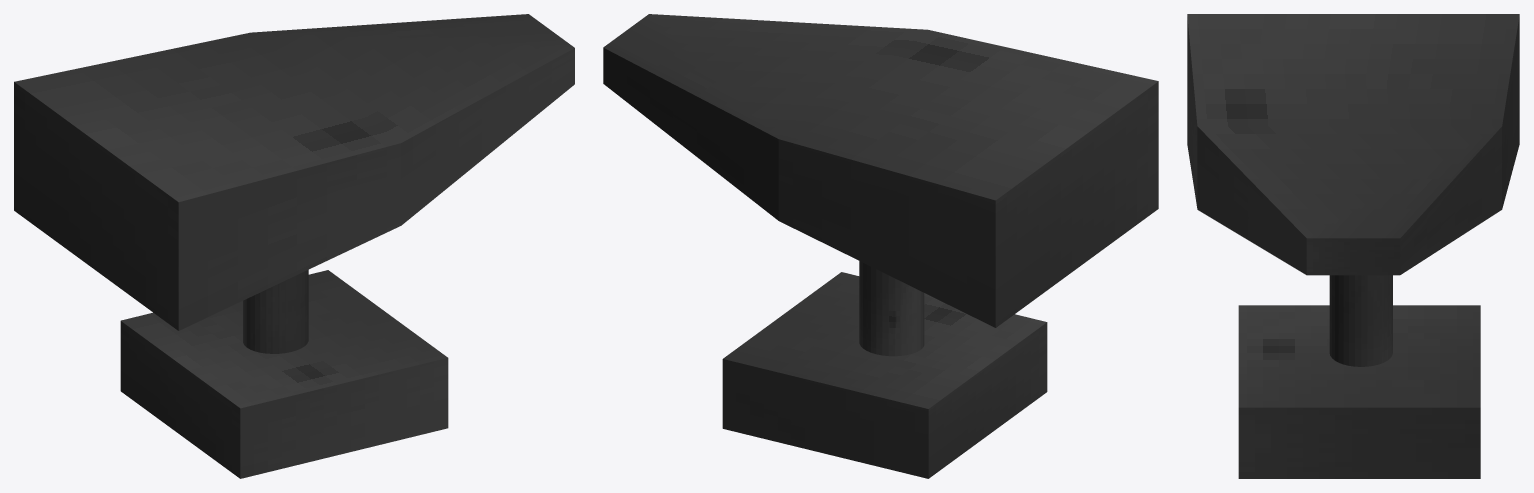
The model's file is ObjectAnvil.dae.
3 views of the same model, side by side, from view 1: azimuth 30°, elevation 25°; view 2: azimuth 150°, elevation 25°; view 3: azimuth 270°, elevation 25° (orthographic).
Parts seen in each view (by area): view 1: Cube.001, Cube, Cylinder; view 2: Cube.001, Cube, Cylinder; view 3: Cube.001, Cube, Cylinder.
Boxes of the visible parts, x1=… form: Cube.001: x1=14, y1=14, x2=574, y2=330; Cube: x1=120, y1=270, x2=448, y2=478; Cylinder: x1=243, y1=270, x2=308, y2=353; Cube.001: x1=603, y1=14, x2=1158, y2=327; Cube: x1=722, y1=272, x2=1047, y2=478; Cylinder: x1=859, y1=261, x2=924, y2=356; Cube.001: x1=1187, y1=14, x2=1519, y2=275; Cube: x1=1238, y1=305, x2=1480, y2=478; Cylinder: x1=1329, y1=275, x2=1392, y2=366.
Size of the model in its own units: 1.95 by 1.22 by 1.29.
1 material, 1 textured.
